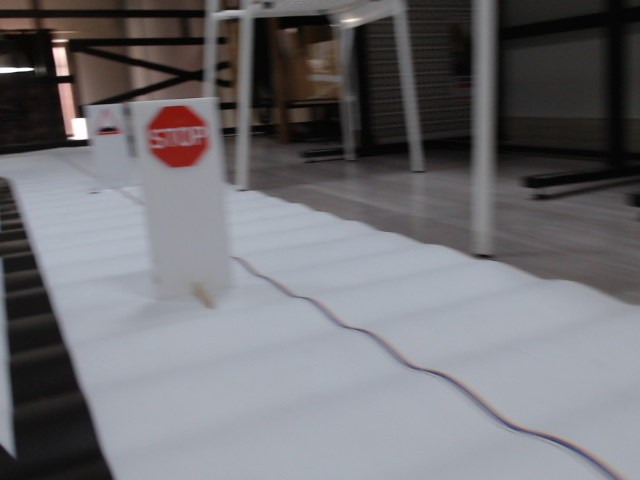Stop: (147, 105, 208, 167)
